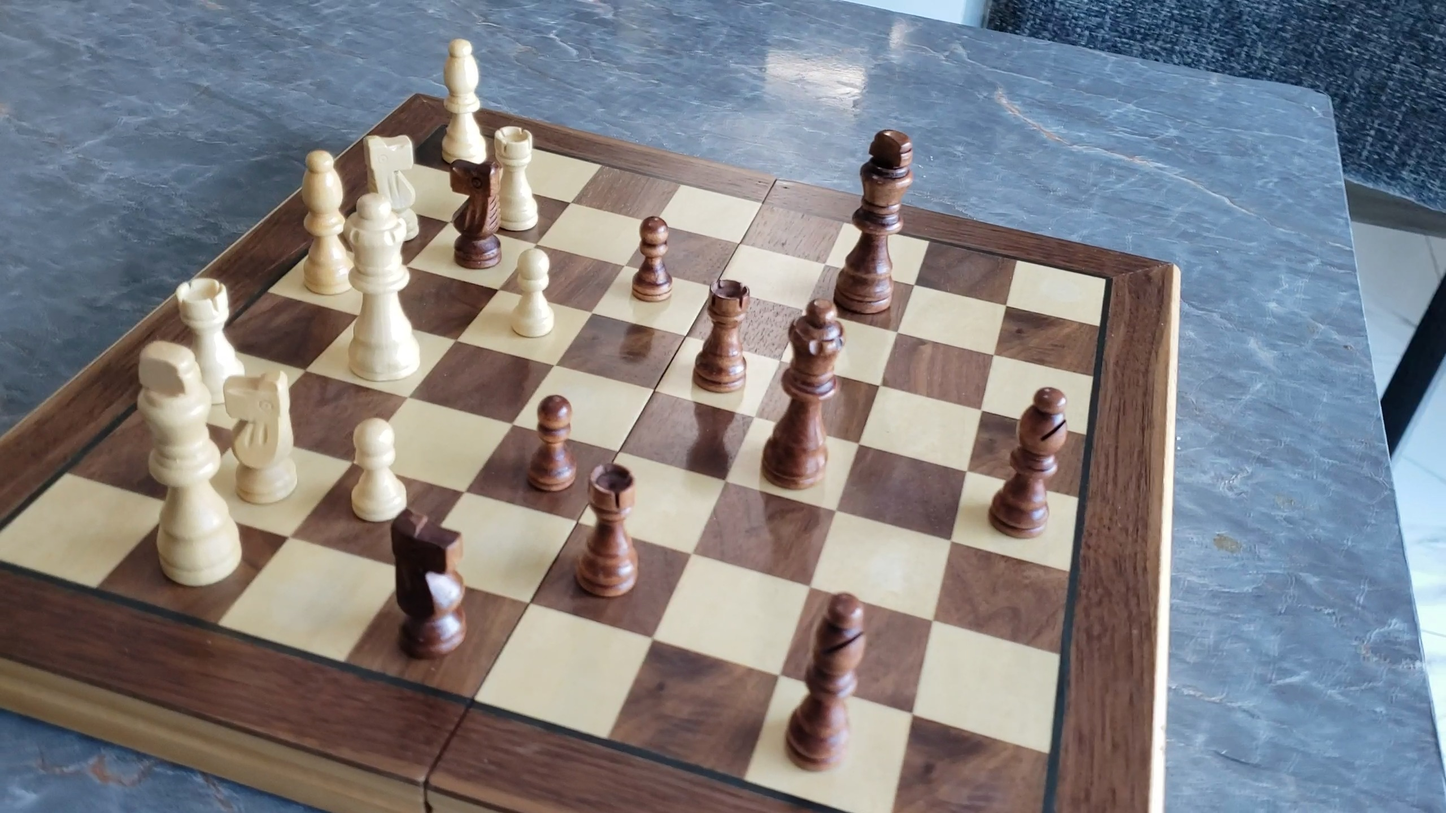black-bishop: (785, 589, 871, 772), (988, 384, 1072, 539)
black-king: (835, 124, 917, 315)
black-knight: (384, 506, 473, 658), (448, 155, 505, 270)
black-pawn: (525, 391, 578, 495), (630, 211, 675, 304)
black-queen: (760, 295, 850, 491)
black-rook: (574, 461, 641, 599), (694, 275, 753, 393)
white-bishop: (297, 145, 355, 298), (438, 32, 488, 171)
white-king: (128, 338, 248, 592)
white-knight: (224, 366, 303, 509), (359, 130, 428, 243)
white-pawn: (343, 412, 413, 527), (502, 242, 563, 344)
white-queen: (338, 188, 425, 388)
white-rook: (169, 273, 249, 415), (490, 121, 545, 234)
